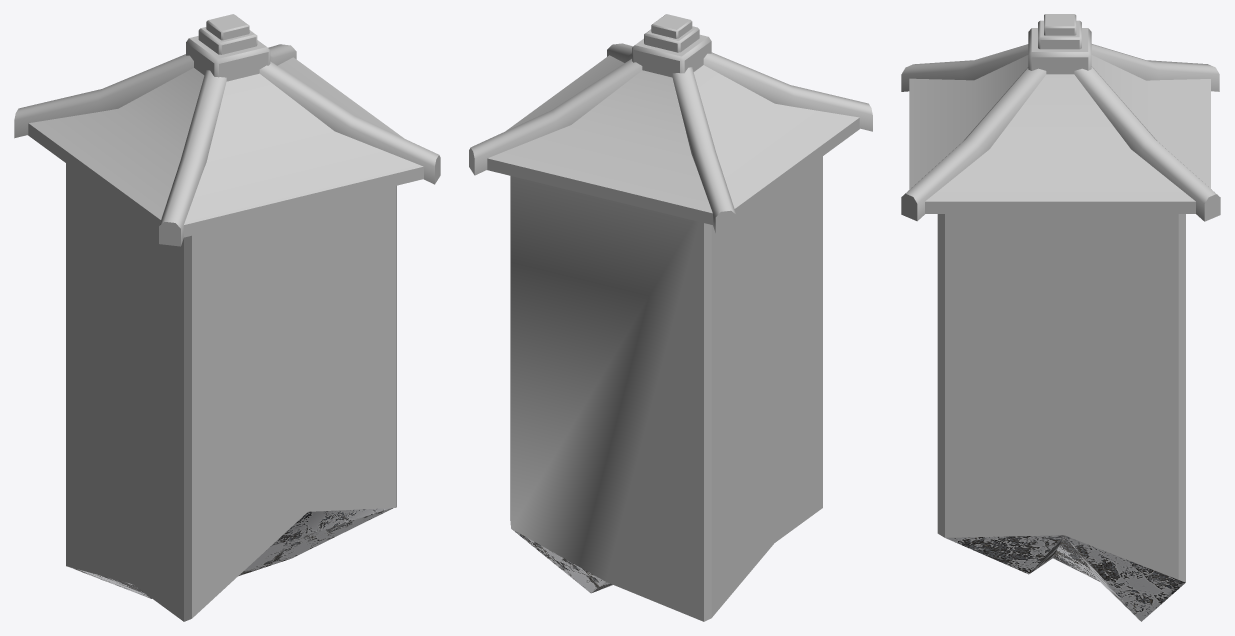
Rendered from pillar_b.FBX.
3 renders of one model, left to right at view 1: azimuth 30°, elevation 25°; view 2: azimuth 150°, elevation 25°; view 3: azimuth 270°, elevation 25°, orthographic. The views are drawn at different scales.
Parts seen in each view (by area): view 1: Box007; view 2: Box007; view 3: Box007.
Boxes of the visible parts, x1,y1,x2,y2 form: Box007: (14,14,440,621); Box007: (469,14,872,621); Box007: (901,14,1220,621).
Bounding box in the file's own units: 133 × 264 × 132.
